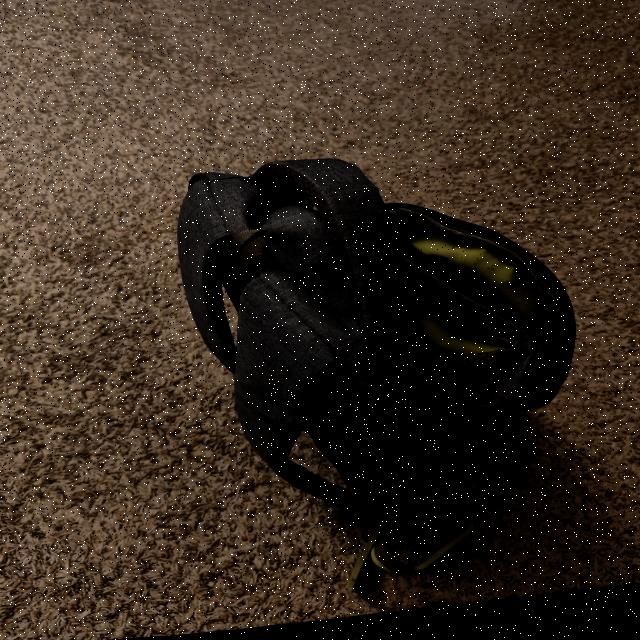bag: (193, 168, 565, 523)
